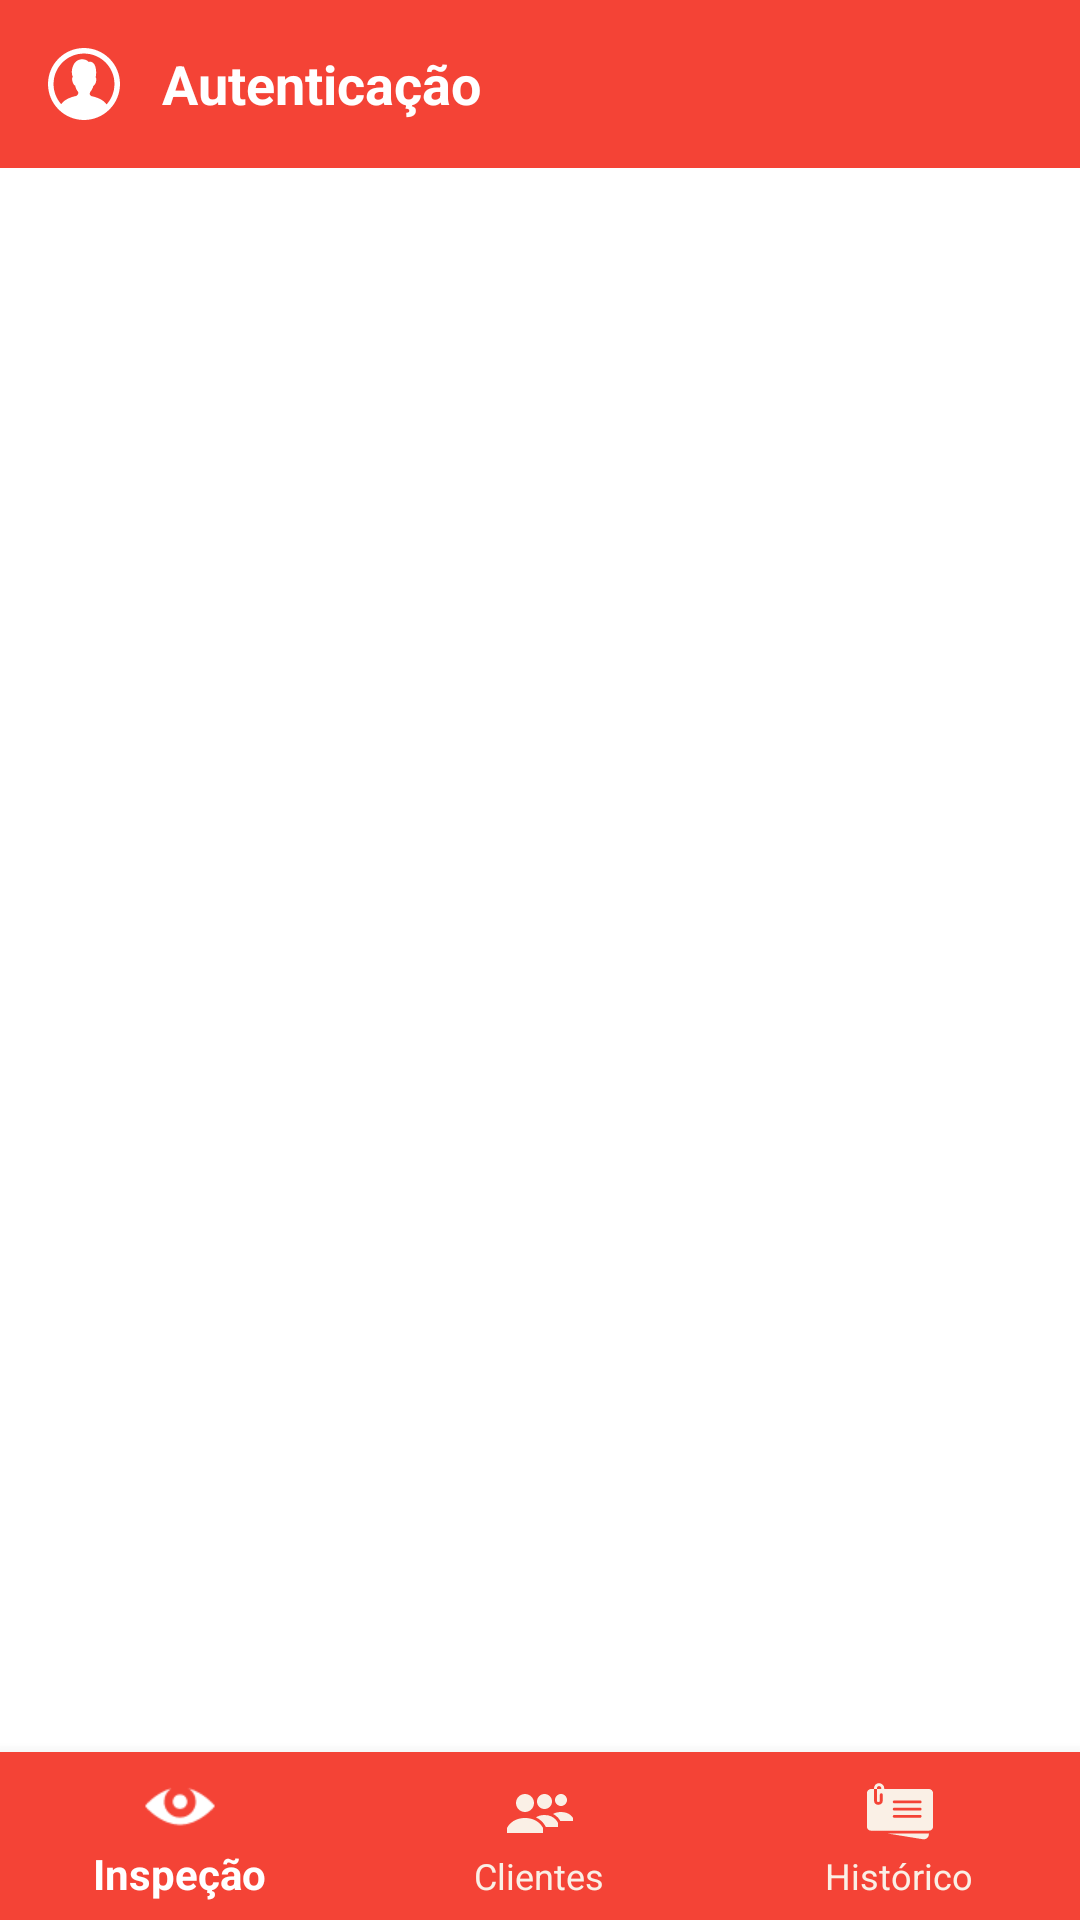

Named icons in this screenshot (1080x1920) and their bounding boxes, (x1, y1, x2, y2):
perfil: (48, 48, 120, 120)
